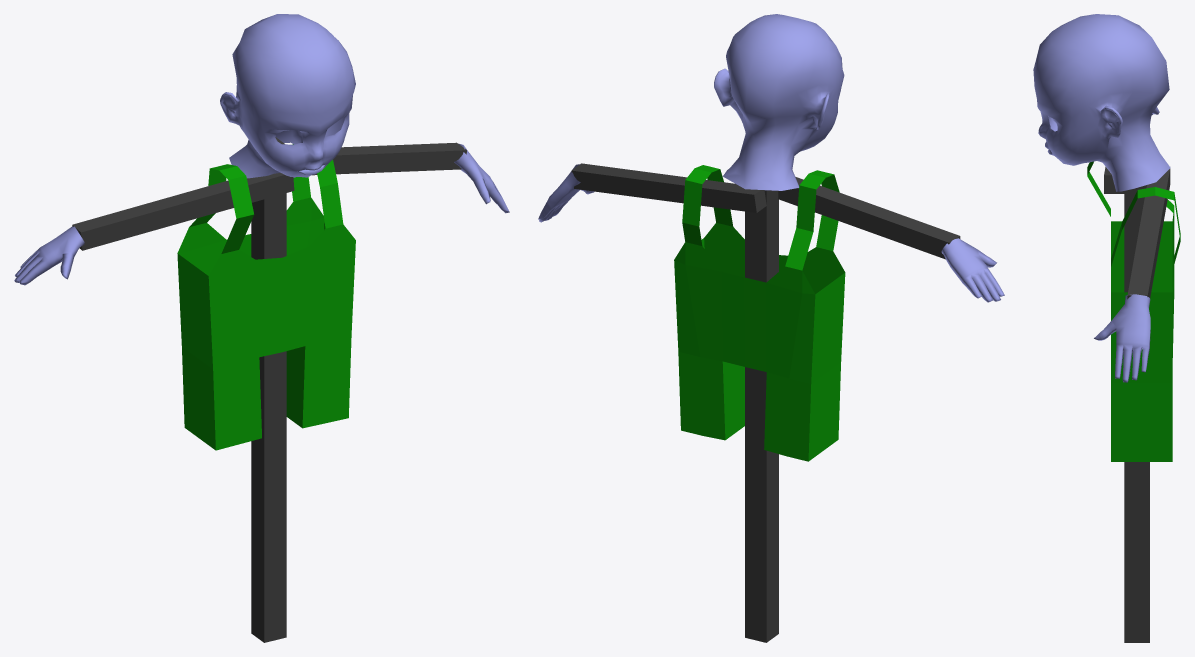
File: Dummy.glb
3 renders of one model, left to right at view 1: azimuth 30°, elevation 25°; view 2: azimuth 150°, elevation 25°; view 3: azimuth 270°, elevation 25°, orthographic. The views are drawn at different scales.
Parts seen in each view (by area): view 1: Plane, Cube, Cube.003, Cube.004, Cube.002; view 2: Plane, Cube, Cube.003, Cube.004, Cube.002; view 3: Cube.003, Plane, Cube, Cube.002.
Part boxes in pixels (<box>): Plane: <box>177,144,355,450</box>; Cube: <box>72,137,466,642</box>; Cube.003: <box>220,14,355,178</box>; Cube.004: <box>14,226,84,285</box>; Cube.002: <box>454,143,509,213</box>; Plane: <box>674,165,845,461</box>; Cube: <box>571,163,960,642</box>; Cube.003: <box>714,14,844,190</box>; Cube.004: <box>941,238,1004,302</box>; Cube.002: <box>538,164,593,222</box>; Cube.003: <box>1033,14,1170,191</box>; Plane: <box>1087,161,1180,461</box>; Cube: <box>1104,166,1170,642</box>; Cube.002: <box>1094,294,1150,382</box>.
Bounding box in the file's own units: 5.52 × 6.83 × 1.47.
